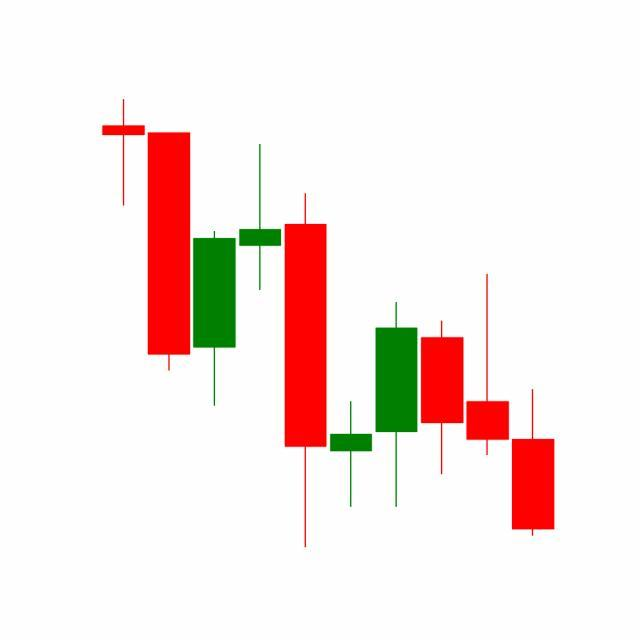Hikkake Pattern: (283, 189, 512, 548)
